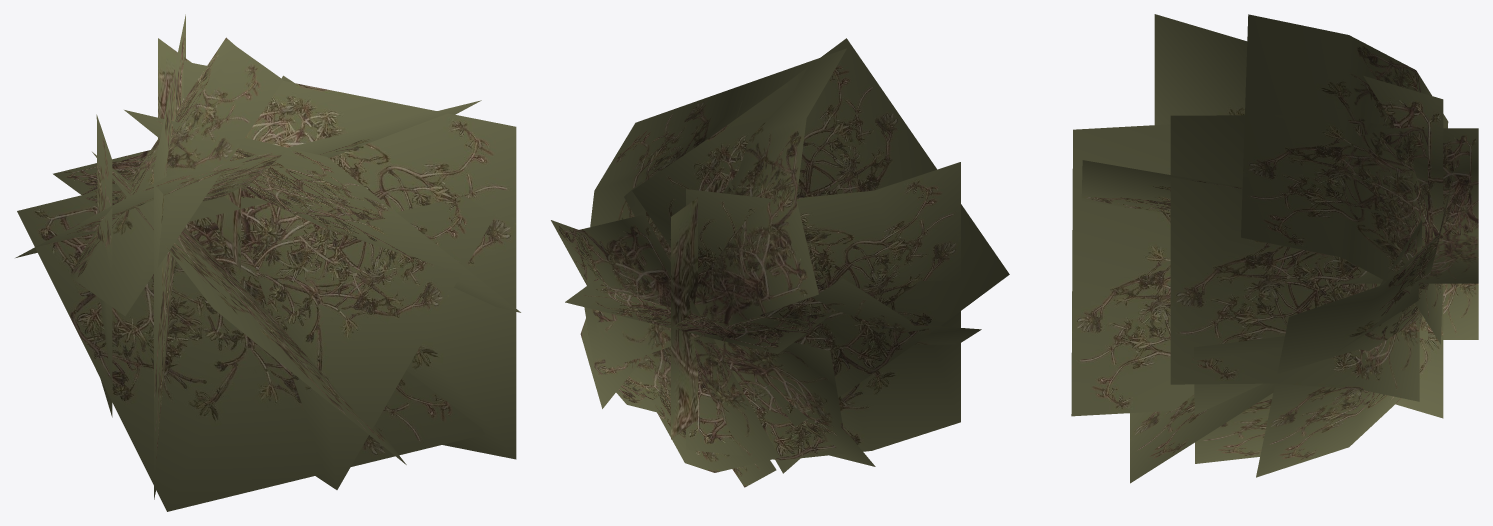
The model's file is brush_egypt_desert_1.glb.
3 renders of one model, left to right at view 1: azimuth 30°, elevation 25°; view 2: azimuth 150°, elevation 25°; view 3: azimuth 270°, elevation 25°, orthographic. The views are drawn at different scales.
Size of the model in its own units: 109 by 112 by 99.92.
1 material, 1 textured.
